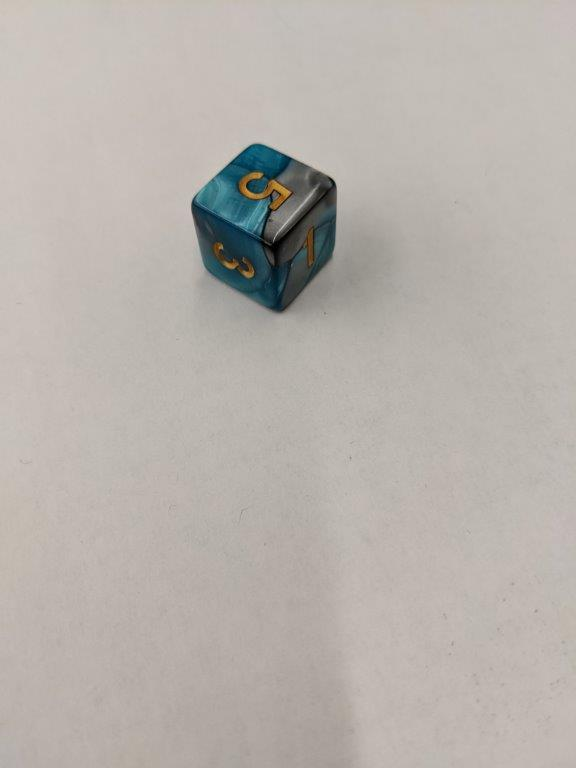d6-5: (192, 142, 335, 315)
